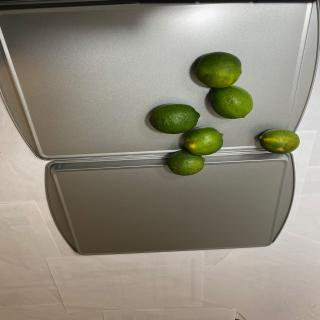Lemon: (195, 52, 242, 88), (149, 103, 200, 134), (210, 85, 254, 119), (184, 126, 223, 156), (259, 128, 300, 154), (167, 150, 205, 176)
